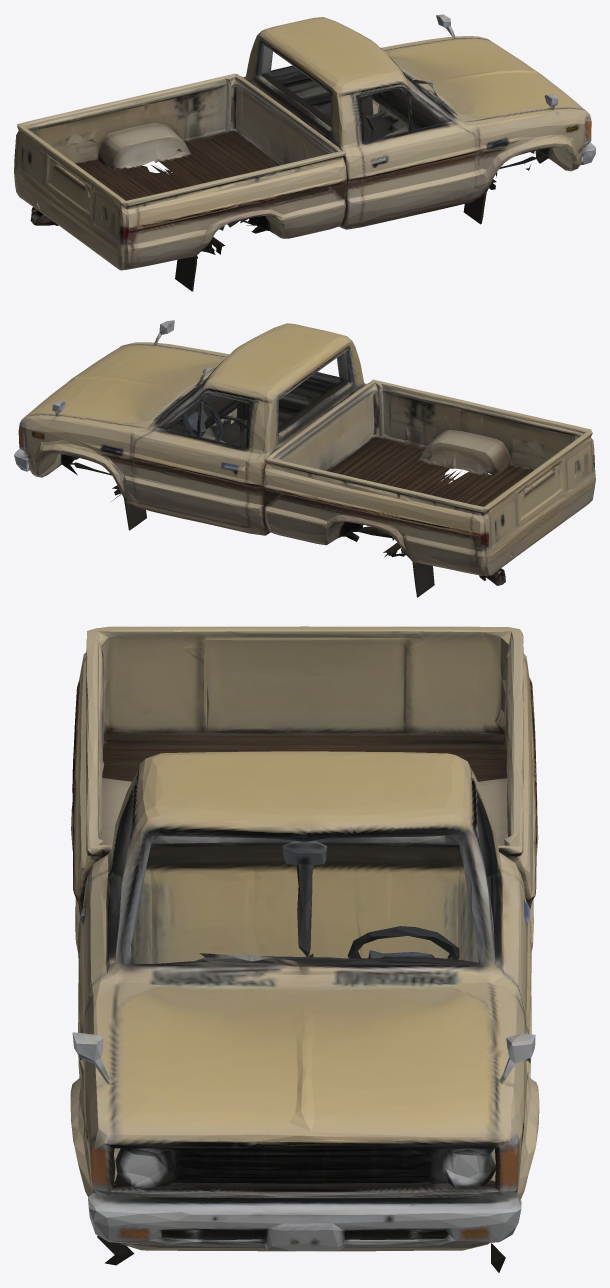
The model's file is body.glb.
3 views of the same model, one above another, from view 1: azimuth 30°, elevation 25°; view 2: azimuth 150°, elevation 25°; view 3: azimuth 270°, elevation 25° (orthographic). The views are drawn at different scales.
Visible parts, largest first — view 1: tripo_node_ce857519-5dcd-4b2e-8f91-d0f84c83ffb9; view 2: tripo_node_ce857519-5dcd-4b2e-8f91-d0f84c83ffb9; view 3: tripo_node_ce857519-5dcd-4b2e-8f91-d0f84c83ffb9.
Part boxes in pixels (x1,y1,x2,y2): tripo_node_ce857519-5dcd-4b2e-8f91-d0f84c83ffb9: (14,14,595,291); tripo_node_ce857519-5dcd-4b2e-8f91-d0f84c83ffb9: (14,320,595,597); tripo_node_ce857519-5dcd-4b2e-8f91-d0f84c83ffb9: (70,626,539,1272).
Size of the model in its own units: 4.48 by 1.44 by 1.89.
1 material, 1 textured.
